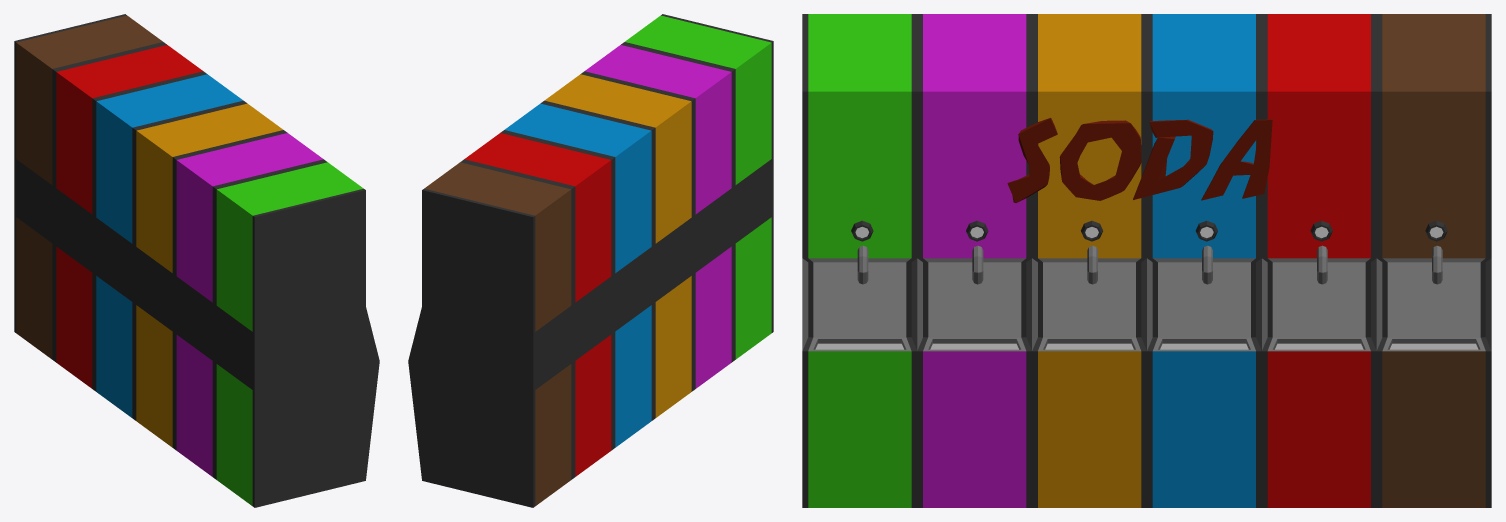
File: Soda Dispenser.fbx
3 renders of one model, left to right at view 1: azimuth 30°, elevation 25°; view 2: azimuth 150°, elevation 25°; view 3: azimuth 270°, elevation 25°, orthographic. The views are drawn at different scales.
Parts seen in each view (by area): view 1: Soda Dispenser; view 2: Soda Dispenser; view 3: Soda Dispenser.
Part boxes in pixels (x1,y1,x2,y2): Soda Dispenser: (14,14,379,507); Soda Dispenser: (408,14,773,507); Soda Dispenser: (802,14,1491,507).
Bounding box in the file's own units: 900 × 2000 × 3000.
